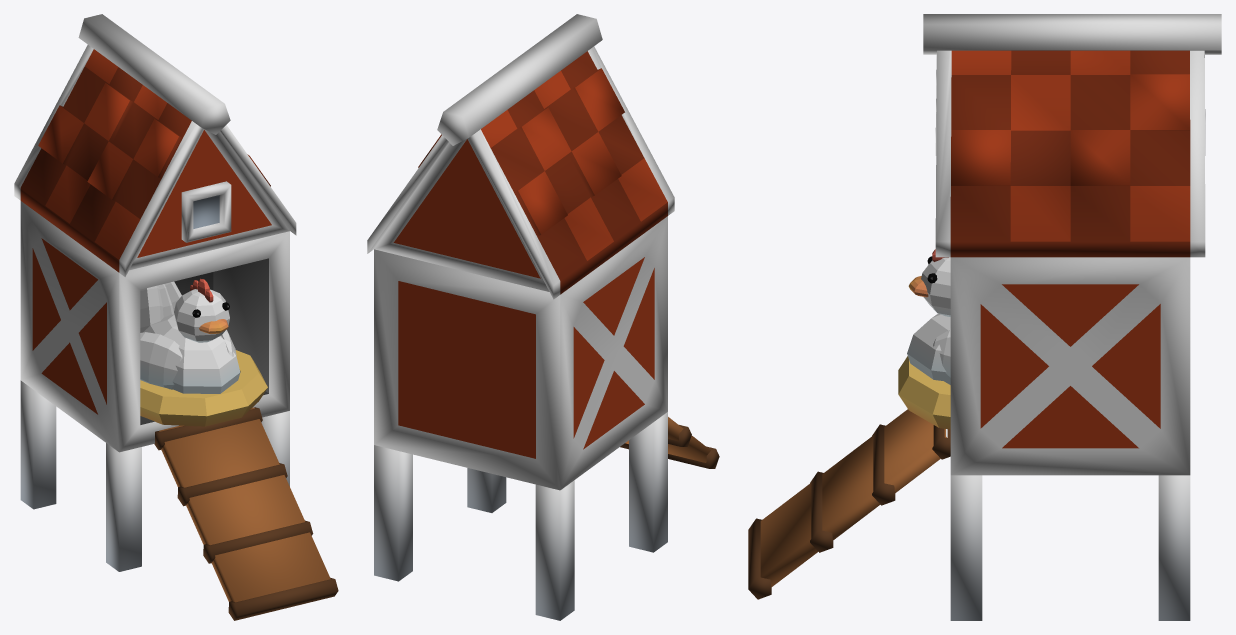
File: farmpack2023chickencoop.fbx
The picture shows the model from 3 angles, left to right: view 1: azimuth 30°, elevation 25°; view 2: azimuth 150°, elevation 25°; view 3: azimuth 270°, elevation 25°; orthographic projection. The views are drawn at different scales.
Parts seen in each view (by area): view 1: Sphere.003; view 2: Sphere.003; view 3: Sphere.003.
Part boxes in pixels (x1,y1,x2,y2): Sphere.003: (14,14,338,620); Sphere.003: (367,14,719,620); Sphere.003: (748,14,1221,620).
Size of the model in its own units: 1.96 by 0.9948 by 2.52.
